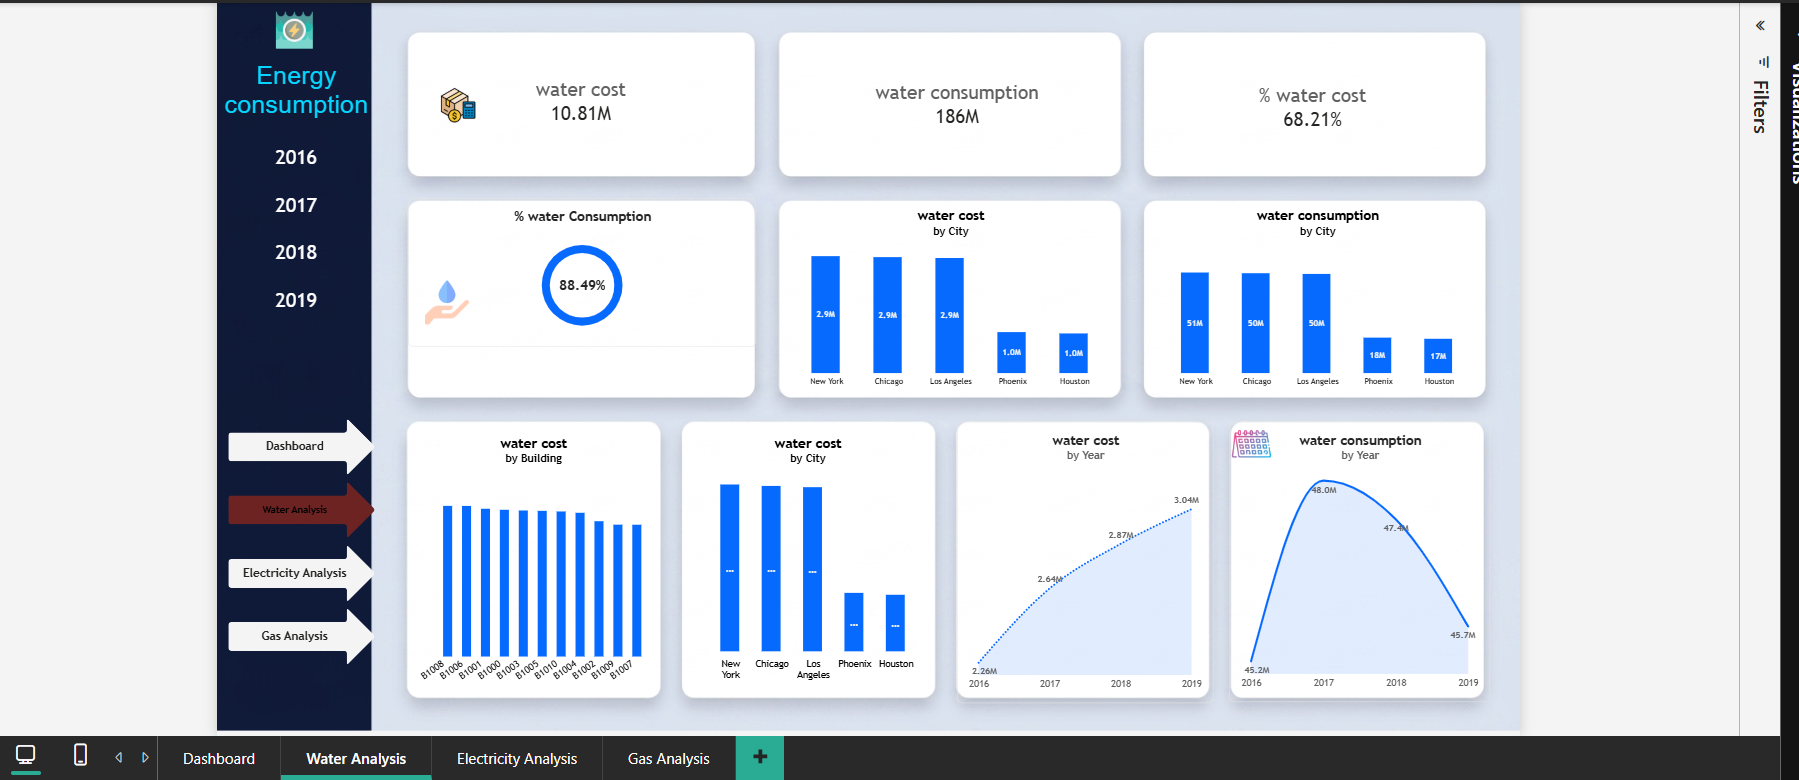

Layout of this report page (visuals, bound fields, positions):
{"tool":"powerbi","page":{"name":"Water Analysis","canvas":[1920,1080],"ordinal":1},"visuals":[{"type":"cardVisual","fields":{"Data":["KPIS.water cost"]},"box":[280.5,39.8,512.1,209.9],"z":0},{"type":"donutChart","fields":{"Y":["KPIS.% water Consumption"]},"box":[281.2,287,512.4,219.6],"z":1000},{"type":"cardVisual","fields":{"Data":["KPIS.% water cost"]},"box":[1369.9,59.7,488.6,190],"z":2000},{"type":"advancedSlicerVisual","fields":{"Values":["Rates.Year"]},"box":[16.3,195.4,200.3,279.3],"z":3000},{"type":"clusteredColumnChart","fields":{"Category":["Building Master.City"],"Y":["KPIS.water cost"]},"box":[823.4,287.7,515.8,296.8],"z":4000},{"type":"clusteredColumnChart","fields":{"Category":["Building Master.City"],"Y":["KPIS.water consumption"]},"box":[1368.1,287.7,506.7,296.8],"z":5000},{"type":"clusteredColumnChart","fields":{"Category":["Building Master.City"],"Y":["KPIS.water cost"]},"box":[684.1,622.5,371,394.5],"z":6000},{"type":"lineChart","fields":{"Category":["Rates.Year"],"Y":["KPIS.water consumption"]},"box":[1491.2,617.1,383.6,412.6],"z":7000},{"type":"clusteredColumnChart","fields":{"Category":["Building Master.Building"],"Y":["KPIS.water cost"]},"box":[280.5,622.5,372.8,407.2],"z":8000},{"type":"lineChart","fields":{"Category":["Rates.Year"],"Y":["KPIS.water cost"]},"box":[1090.2,616.4,377.5,414.1],"z":9000},{"type":"textbox","box":[9,85.1,215.3,128.5],"z":10000},{"type":"image","box":[50.7,12.7,124.9,54.3],"z":11000},{"type":"image","box":[293.2,123.1,124.9,54.3],"z":12000},{"type":"image","box":[293.2,409,92.3,65.1],"z":13000},{"type":"image","box":[1491.2,617.1,65.1,65.1],"z":15000},{"type":"pageNavigator","box":[16.3,611.7,217.2,367.4],"z":16000},{"type":"cardVisual","fields":{"Data":["KPIS.water consumption"]},"box":[841.5,45.2,497.7,209.9],"z":17000}]}

Visuals, with their boxes on the page's 1920x1080 design canvas (x1, y1, x2, y2). These are canvas units, not pixel positions in the 1799x780 screenshot, which may show the page scaled, cropped or inside an application window:
cardVisual - KPIS.water cost: bbox=[280, 40, 793, 250]
donutChart - KPIS.% water Consumption: bbox=[281, 287, 794, 507]
cardVisual - KPIS.% water cost: bbox=[1370, 60, 1858, 250]
advancedSlicerVisual - Rates.Year: bbox=[16, 195, 217, 475]
clusteredColumnChart - Building Master.City x KPIS.water cost: bbox=[823, 288, 1339, 584]
clusteredColumnChart - Building Master.City x KPIS.water consumption: bbox=[1368, 288, 1875, 584]
clusteredColumnChart - Building Master.City x KPIS.water cost: bbox=[684, 622, 1055, 1017]
lineChart - Rates.Year x KPIS.water consumption: bbox=[1491, 617, 1875, 1030]
clusteredColumnChart - Building Master.Building x KPIS.water cost: bbox=[280, 622, 653, 1030]
lineChart - Rates.Year x KPIS.water cost: bbox=[1090, 616, 1468, 1030]
textbox: bbox=[9, 85, 224, 214]
image: bbox=[51, 13, 176, 67]
image: bbox=[293, 123, 418, 177]
image: bbox=[293, 409, 386, 474]
image: bbox=[1491, 617, 1556, 682]
pageNavigator: bbox=[16, 612, 234, 979]
cardVisual - KPIS.water consumption: bbox=[842, 45, 1339, 255]
